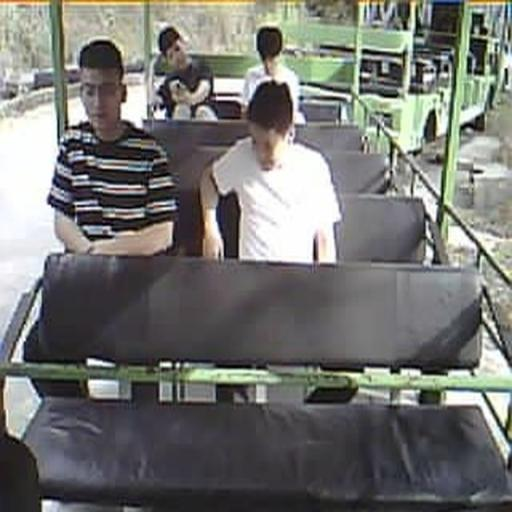persona: (46, 38, 180, 257), (198, 79, 344, 263), (241, 24, 307, 126), (150, 24, 218, 120)
